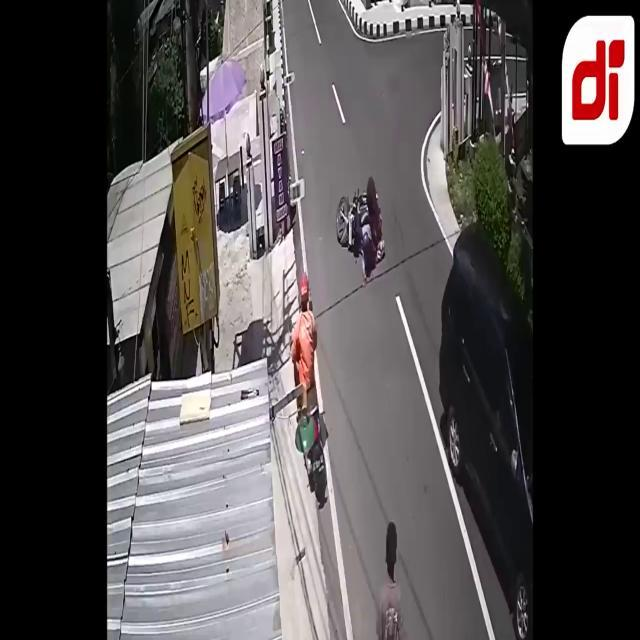multiple_accident: (329, 177, 408, 287)
